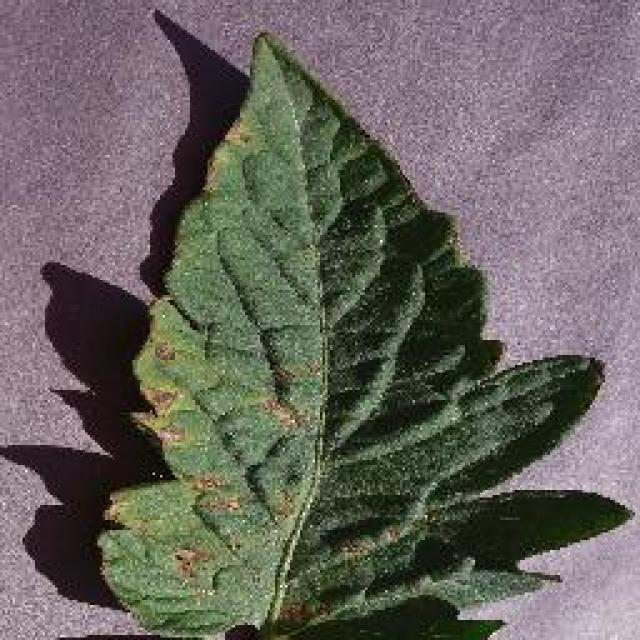Tomato Septoria spot leaf: (96, 30, 634, 640)
